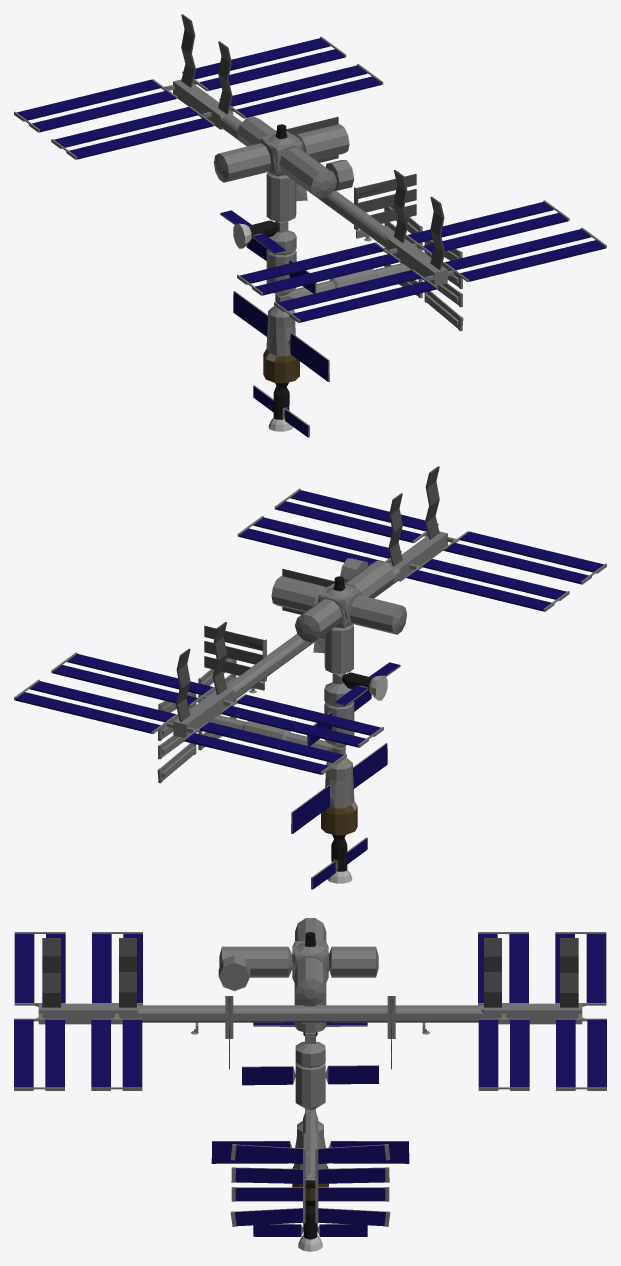
File: iss.obj
3 renders of one model, top to bottom at view 1: azimuth 30°, elevation 25°; view 2: azimuth 150°, elevation 25°; view 3: azimuth 270°, elevation 25°, orthographic. The views are drawn at different scales.
Parts seen in each view (by area): view 1: ISS_Untitled; view 2: ISS_Untitled; view 3: ISS_Untitled.
Part boxes in pixels (x1,y1,x2,y2): ISS_Untitled: (14,14,606,437); ISS_Untitled: (14,466,606,889); ISS_Untitled: (14,918,606,1251).
Bounding box in the file's own units: 40.08 × 38.6 × 64.32.
